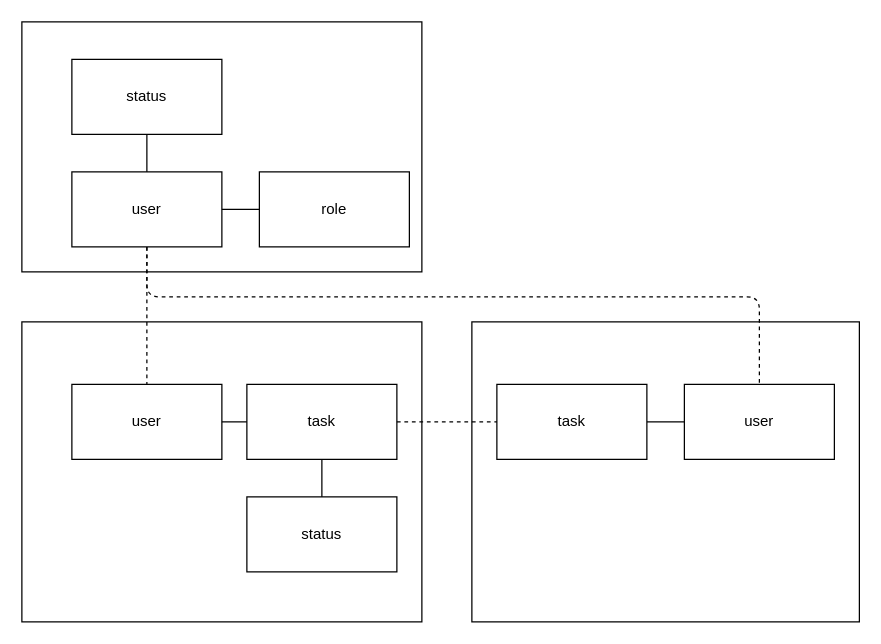
The diagram is 881 pixels wide and 644 high, and some of its shapes have lost their labels. The shapes that lost their labels are listed below. From the top down, each one's box as (x1, y1, x2, y2) in pixels, then its label:
(21, 21, 422, 272): Auth
(21, 321, 422, 622): Tasks
(471, 321, 859, 622): Accounting
